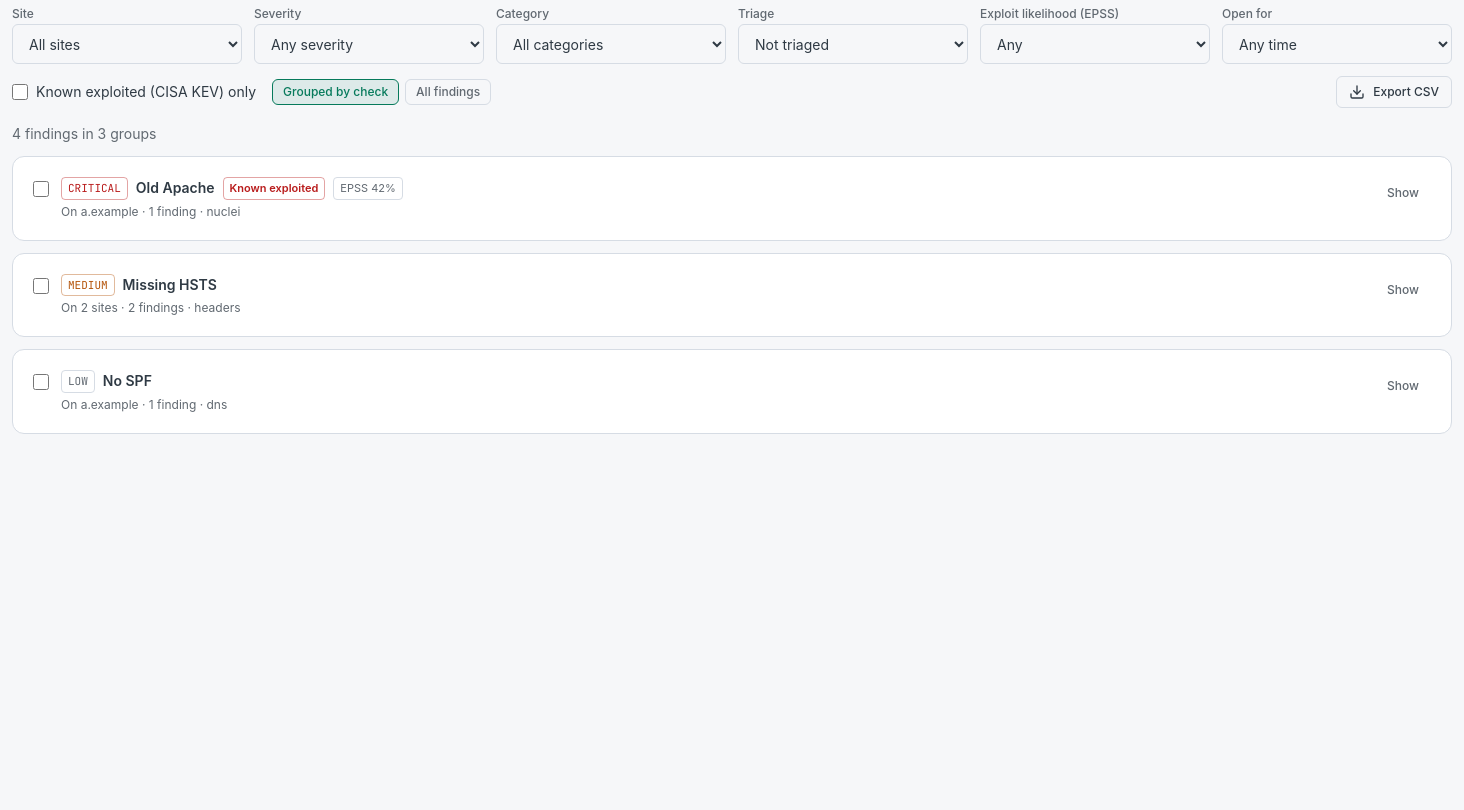
FindingsExplorer › marks false positives and snoozes with an expiry
The width and height of the screenshot is (1464, 810).
Expected: the heading "Old Apache" is shown, [136,178,215,198]
Click the checkbox named "Select all 1 findings for Old Apache" at {"x": 41, "y": 189}, box [33,181,49,197]
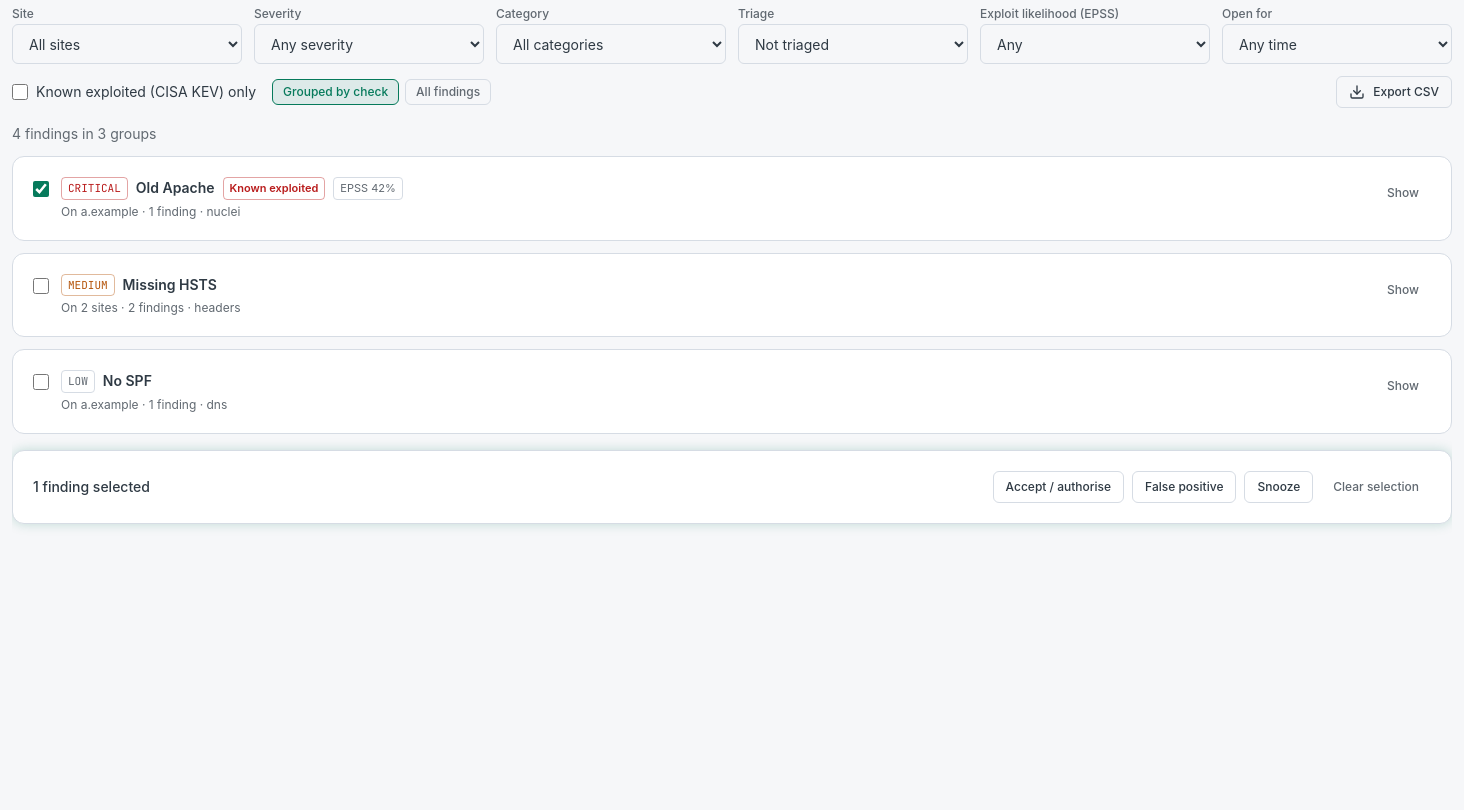
Click the button "Snooze" at {"x": 1279, "y": 486}, box [1244,470,1313,502]
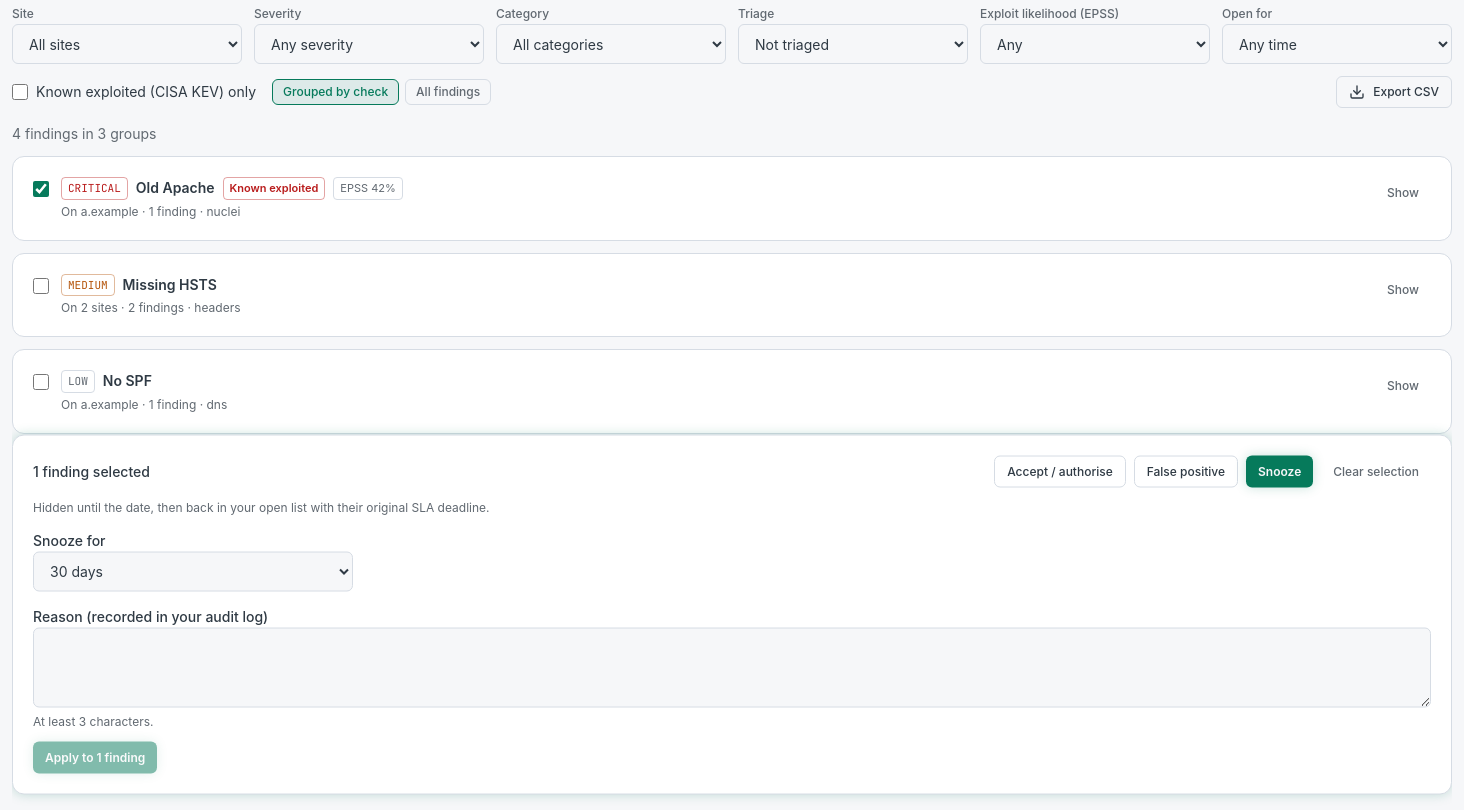
Select "7 days" in the dropdown labelled "Snooze for" at {"x": 193, "y": 571}, box [33,551,353,591]
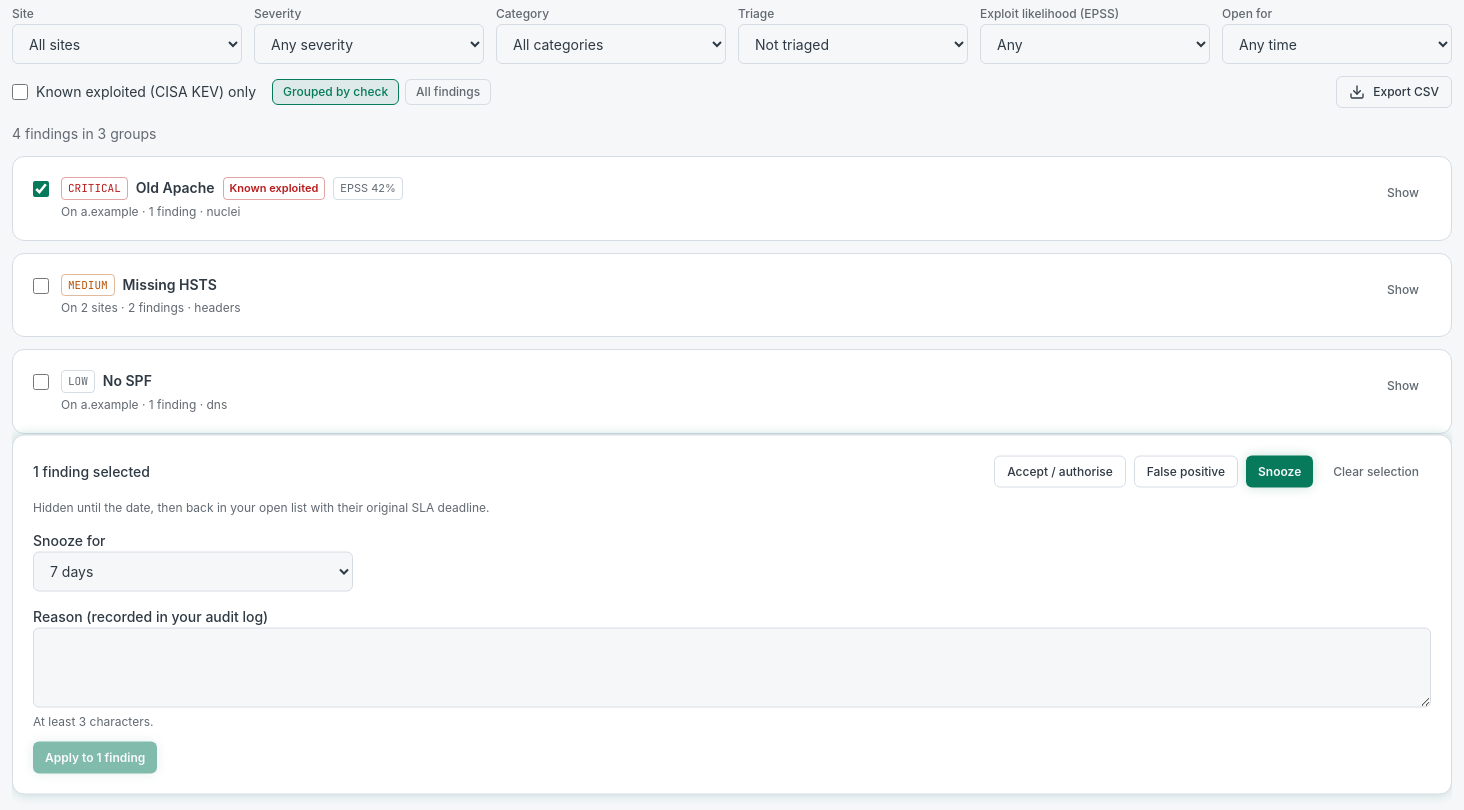
Type "Fix is scheduled" into the text box labelled "Reason (recorded in your audit log)" at {"x": 732, "y": 667}, box [33,627,1431,707]
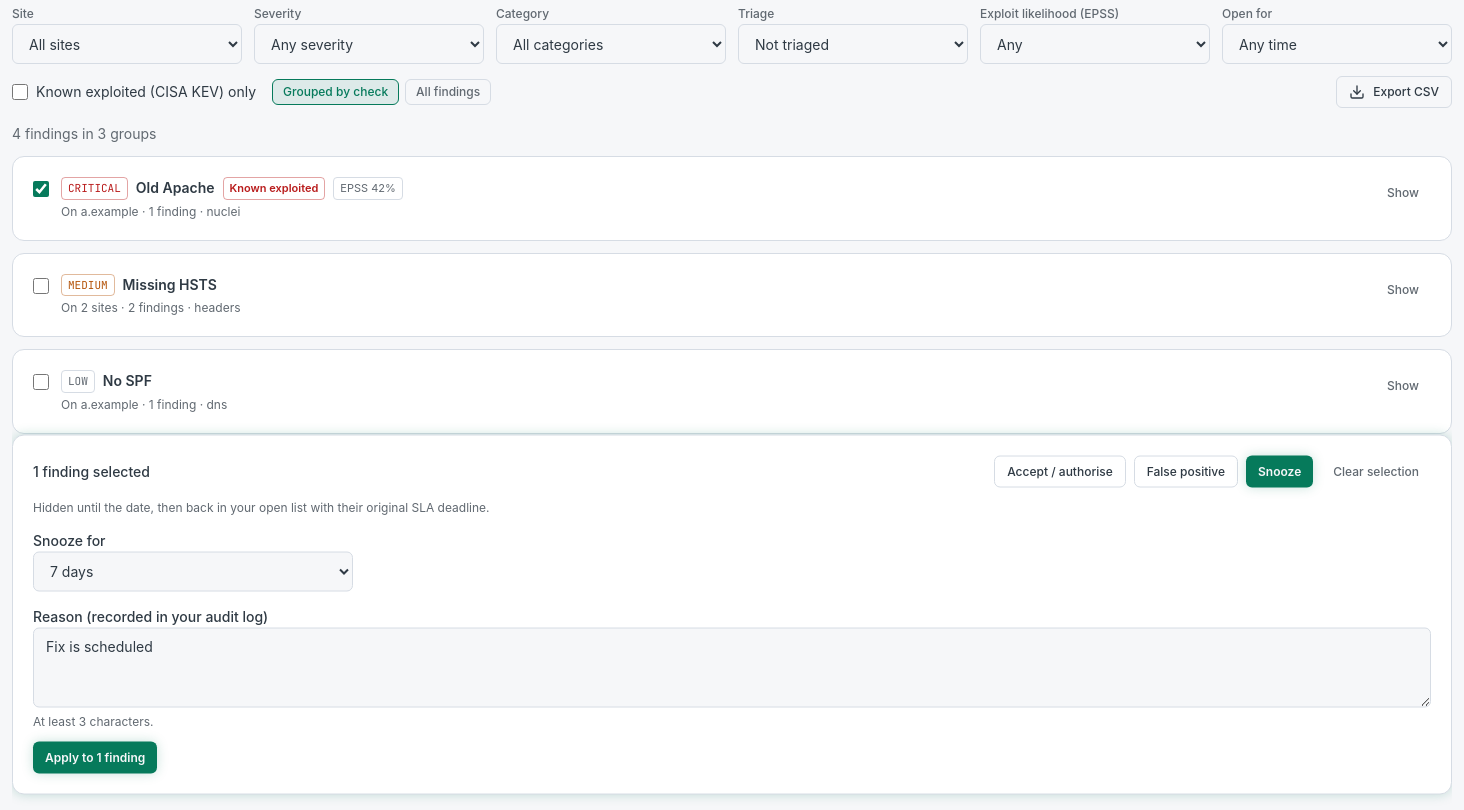
Click the button "Apply to 1 finding" at {"x": 95, "y": 757}, box [33,741,157,773]
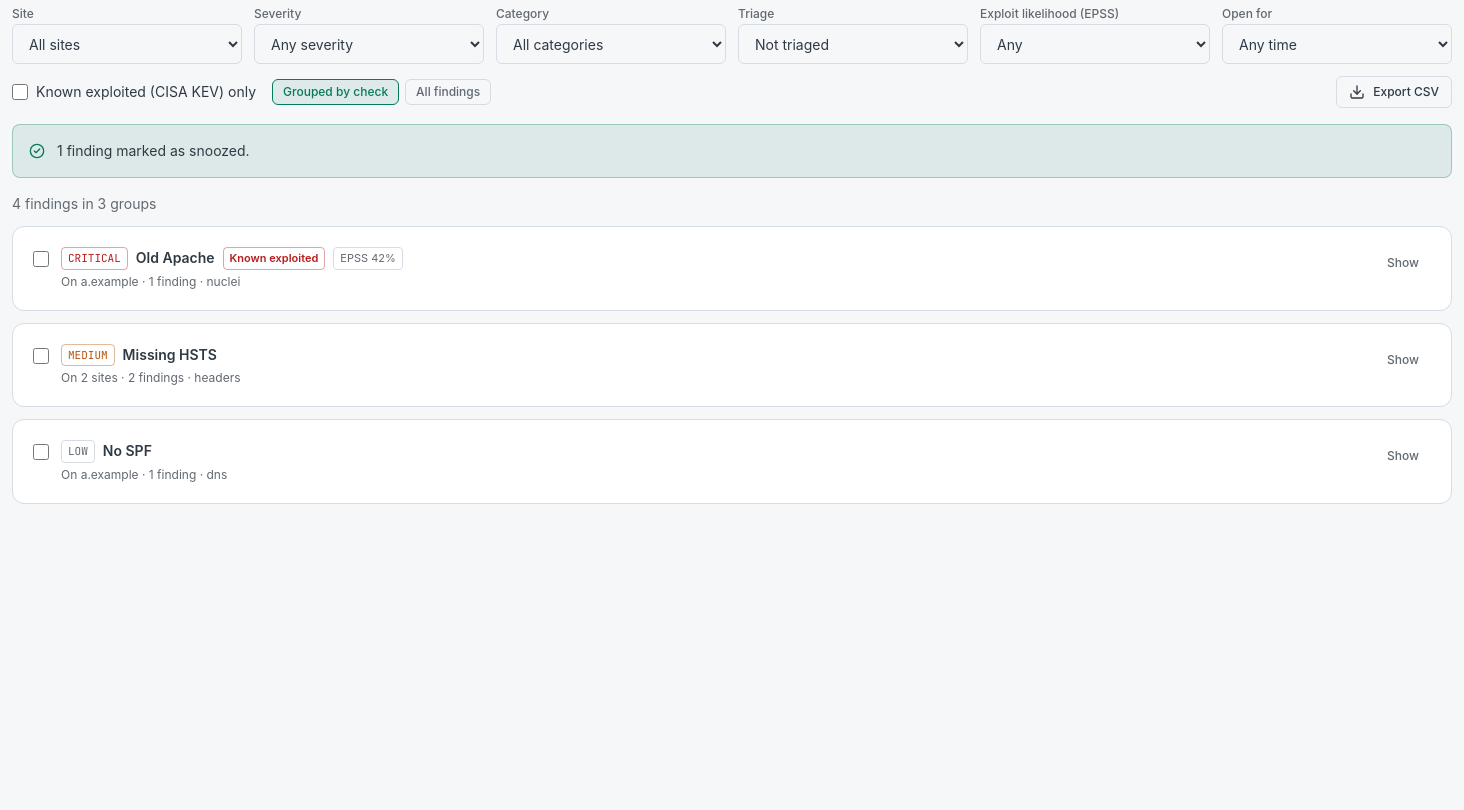
Result: the text "1 finding marked as snoozed." is shown at [57,141,250,161]
